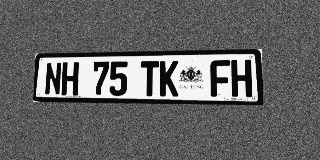5: (109, 61, 128, 96)
7: (91, 62, 110, 96)
F: (210, 60, 231, 97)
H: (231, 60, 252, 97), (61, 62, 79, 96)
K: (159, 61, 178, 96)
N: (44, 62, 62, 95)
T: (140, 61, 159, 96)
